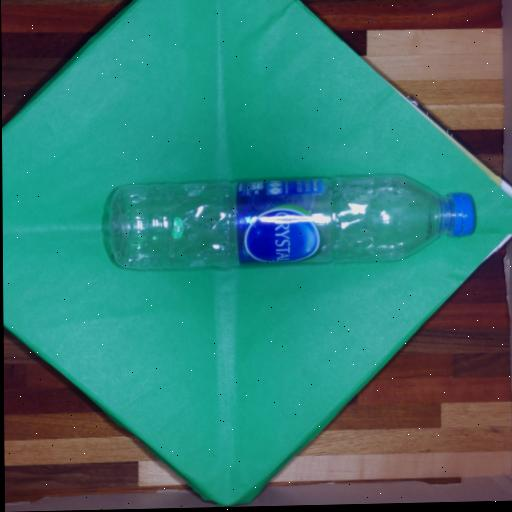bottle: (105, 174, 475, 273)
